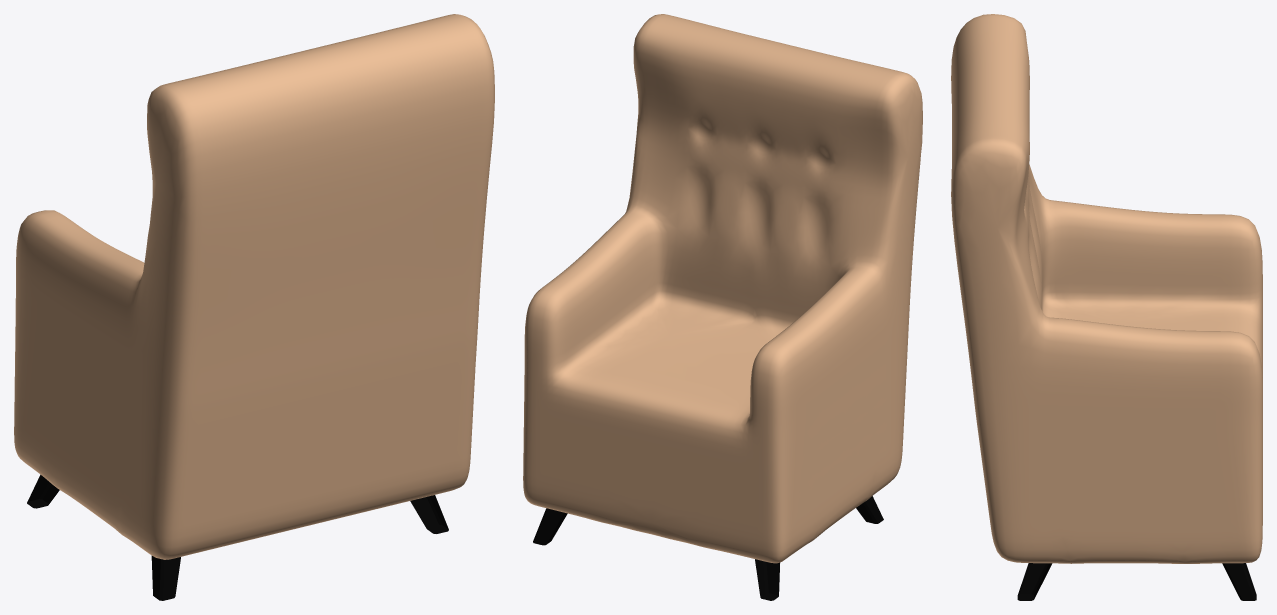
Rendered from Armchair.fbx.
3 views of the same model, side by side, from view 1: azimuth 30°, elevation 25°; view 2: azimuth 150°, elevation 25°; view 3: azimuth 270°, elevation 25° (orthographic). The views are drawn at different scales.
Visible parts, largest first — view 1: Armchair; view 2: Armchair; view 3: Armchair.
Boxes of the visible parts, x1,y1,x2,y2 form: Armchair: [14, 14, 494, 600]; Armchair: [523, 14, 922, 600]; Armchair: [951, 14, 1262, 600].
Size of the model in its own units: 183 by 284 by 174.
